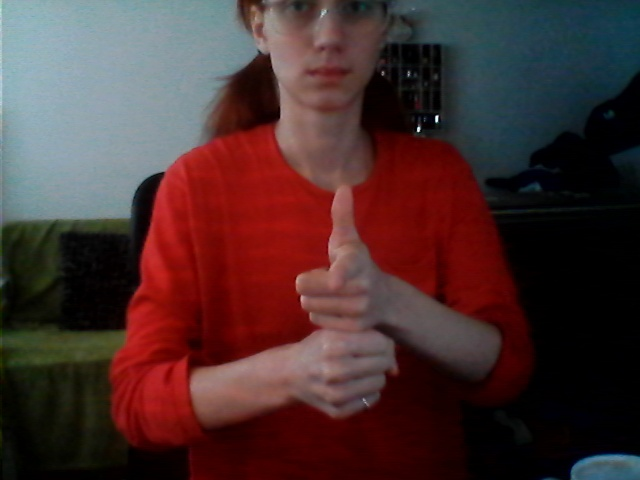kamera: (278, 179, 422, 430)
